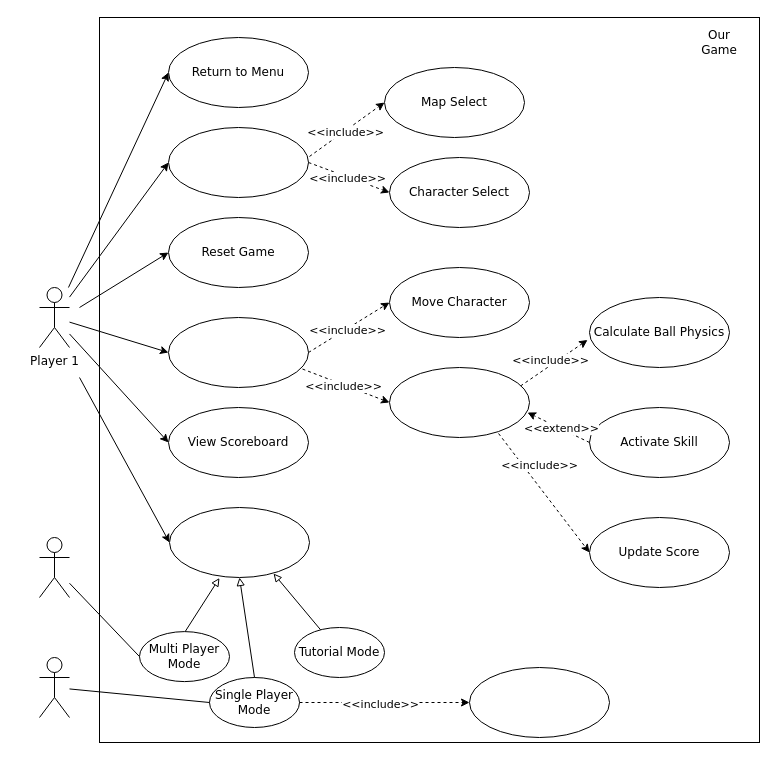
Image size: 777x760. Some labels were removed from this diagram. Each missing label, with the centre of its shape:
"AI Opponent" belongs at pixel 54 687.
"Hit Ball" belongs at pixel 459 402.
"Play Game" belongs at pixel 238 352.
"Player 2" belongs at pixel 54 567.
"Select Difficulty" belongs at pixel 539 702.
"Select Game Mode" belongs at pixel 239 542.
"Start Game" belongs at pixel 238 162.
